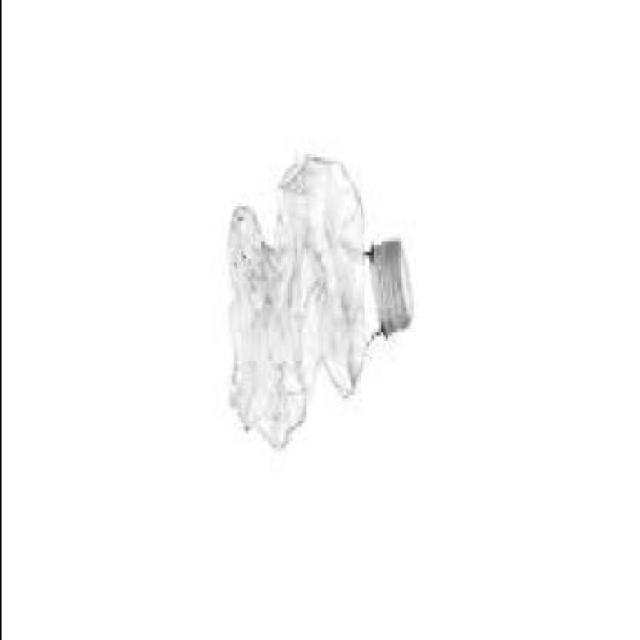PLASTIC: (231, 158, 412, 454), (372, 245, 414, 343)
